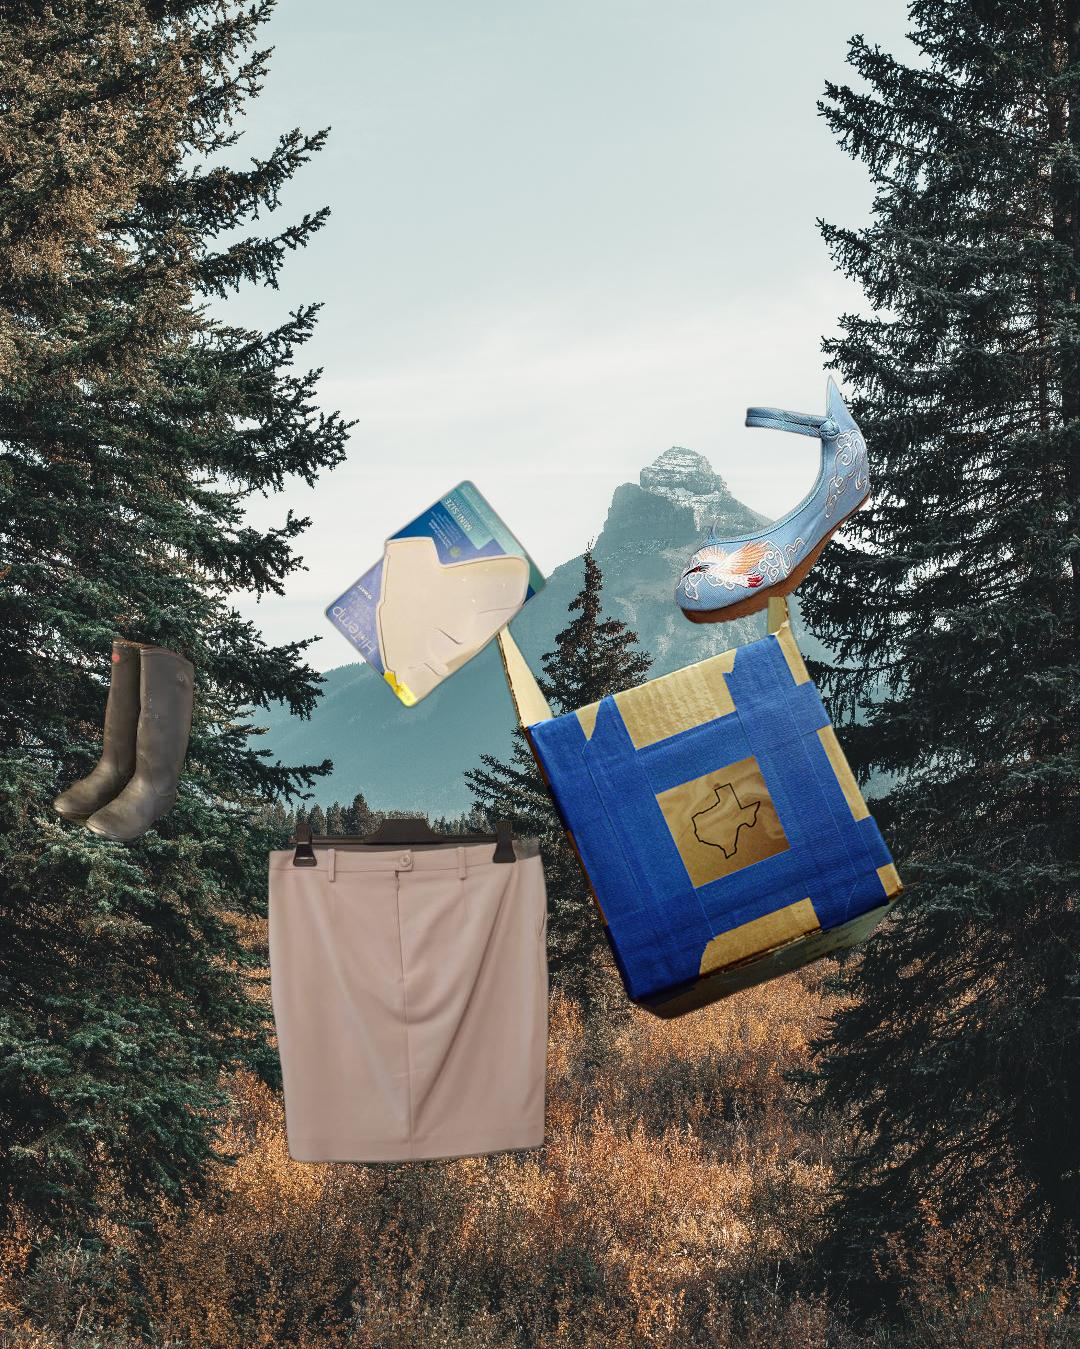clothes: (264, 819, 586, 1168)
paper: (320, 477, 550, 711)
shoes: (673, 374, 873, 626), (48, 633, 198, 845)
trashbox-cardboard: (480, 597, 910, 1023)
